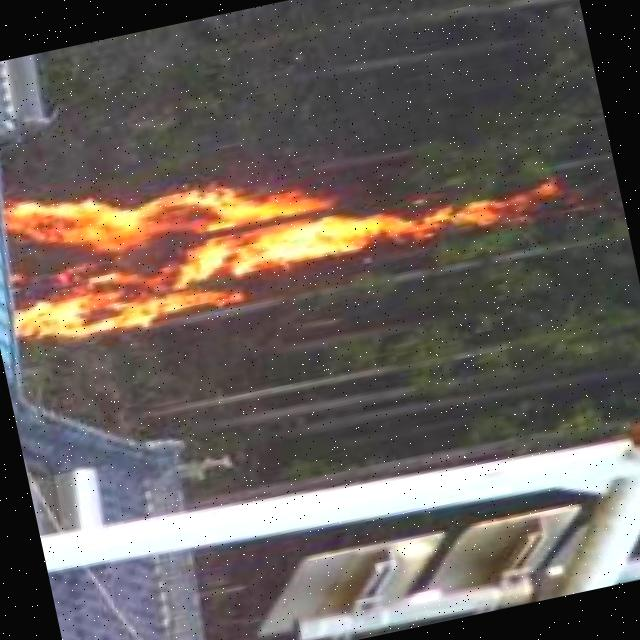fire: (0, 95, 544, 363)
